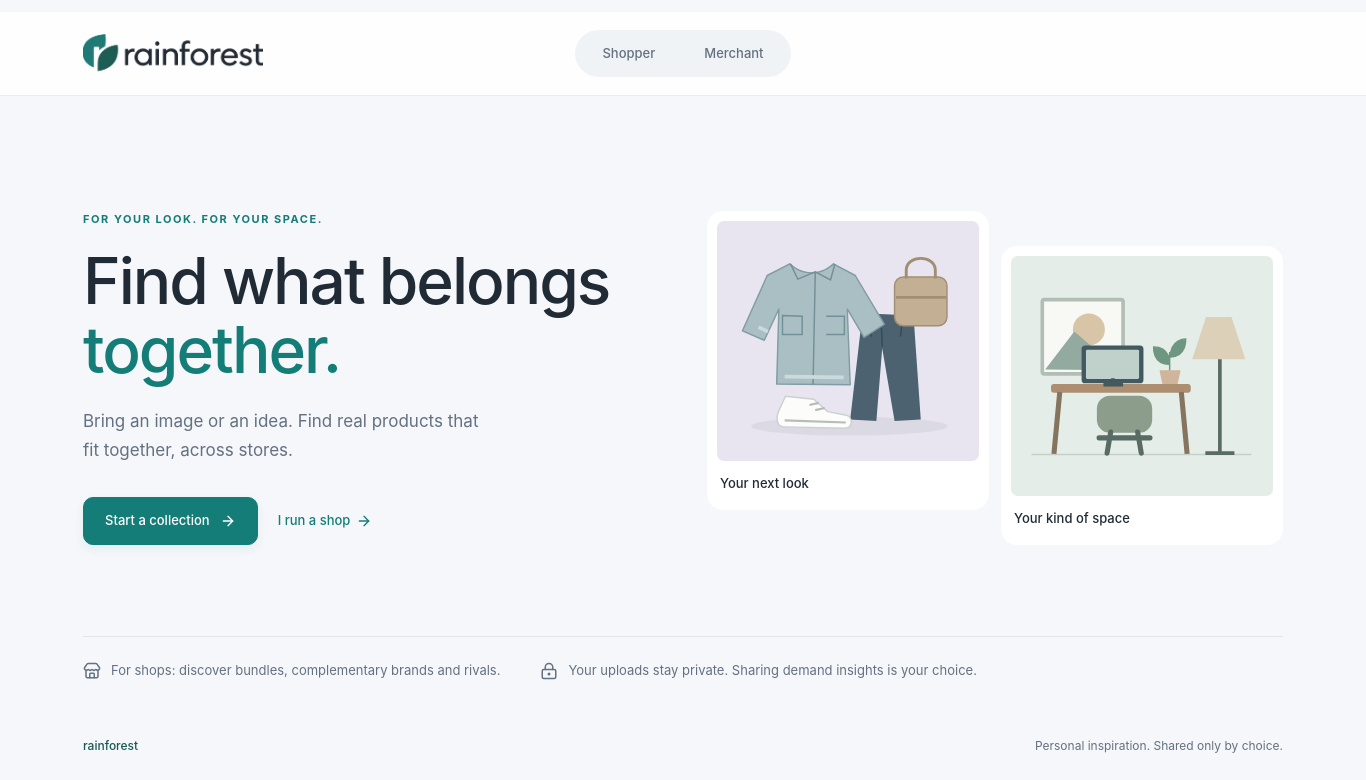
Test: presents shopper and merchant paths without claiming unfinished merchant actions work
The image size is (1366, 780).
Check: the heading "Find what belongs together." is shown, box [83,246,659,384]
Check: the button "Start a collection" is shown, box [83,497,258,545]
Click the button "I run a shop".
click(325, 521)  # box [270,501,380,541]
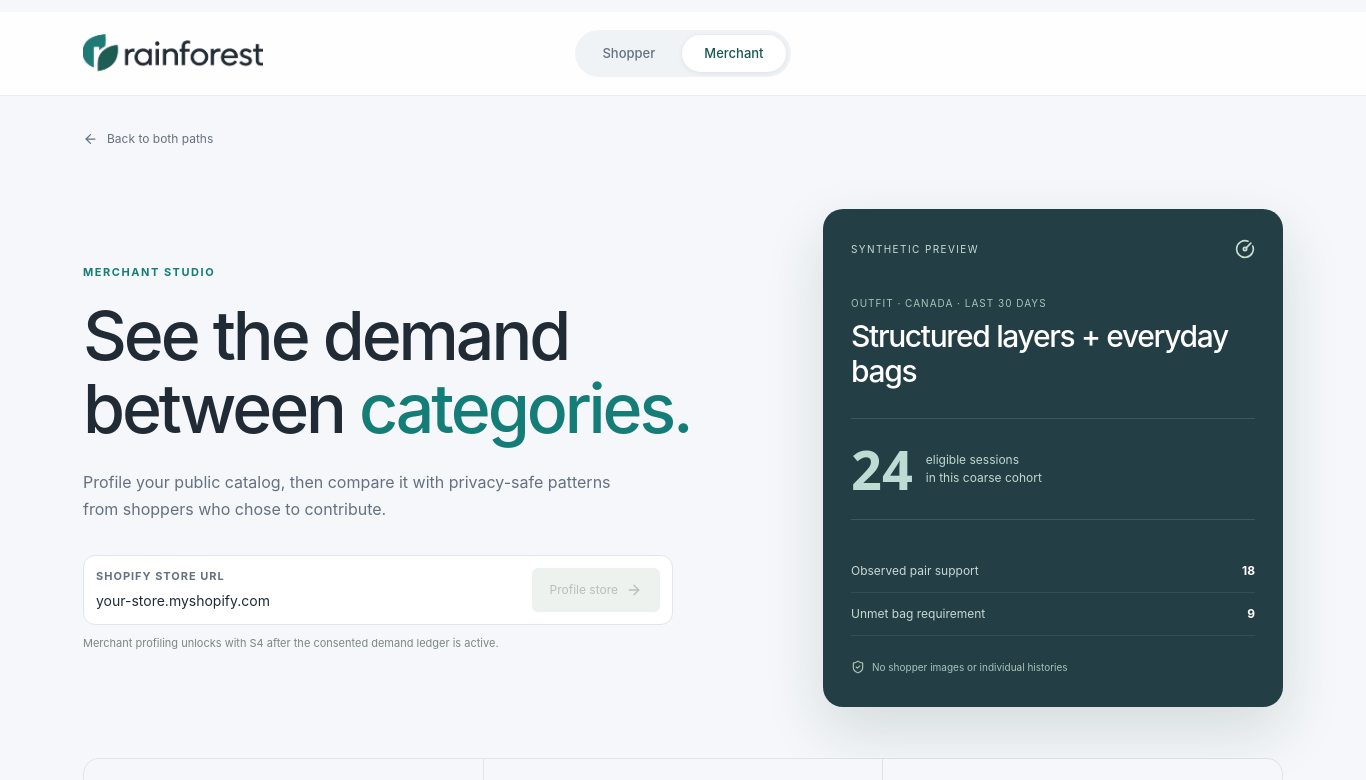
Check: the heading "See the demand between categories." is shown, box [83,299,733,446]
Check: the text "Merchant profiling unlocks with S4" is shown, box [83,636,498,650]
Check: the text "SYNTHETIC PREVIEW" is shown, box [851,242,979,256]
